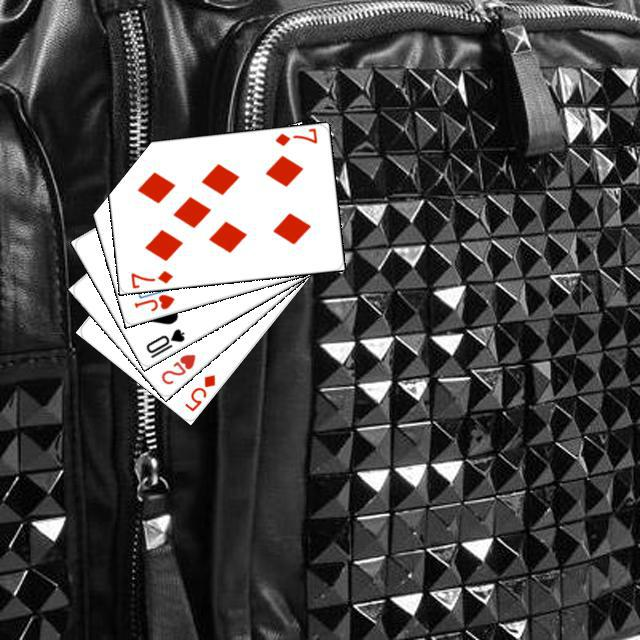10s: (141, 324, 187, 360)
2h: (156, 349, 197, 386)
5d: (180, 370, 217, 413)
7d: (126, 266, 174, 289), (270, 125, 319, 147)
Jh: (129, 289, 176, 313)
